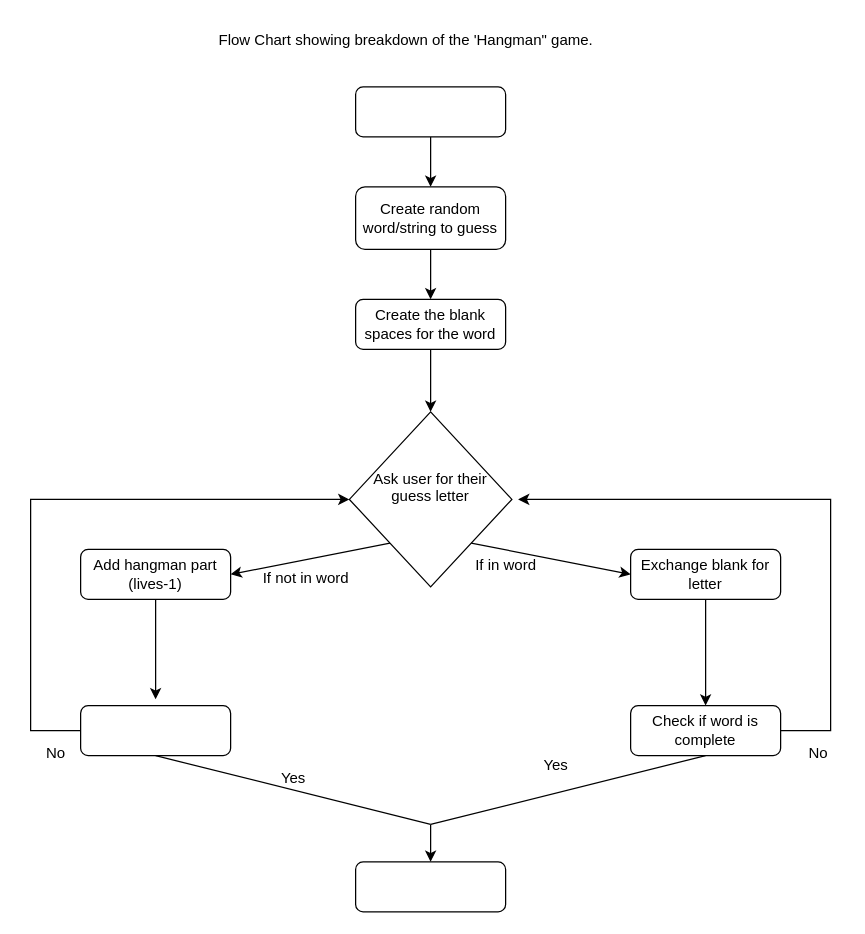
The diagram is 865 pixels wide and 934 high, and some of its shapes have lost their labels. The centre of each missing label's shape, as x and y in pixels:
"Check if hangman is hung" belongs at point 155,730.
"Game over" belongs at point 430,886.
"Start" belongs at point 430,111.
